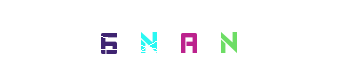6: (108, 0, 188, 80)
A: (140, 0, 220, 80)
N: (109, 0, 189, 80), (187, 0, 267, 80)
